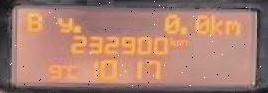-: (71, 23, 80, 32), (178, 24, 185, 33)
0: (98, 58, 115, 78), (162, 12, 178, 33), (192, 14, 208, 34), (150, 35, 166, 54), (135, 35, 150, 54)
1: (88, 59, 98, 78), (133, 58, 142, 79)
2: (68, 34, 85, 54), (102, 34, 117, 53)
3: (85, 34, 100, 53)
7: (143, 58, 160, 78)
9: (118, 34, 133, 53), (45, 63, 60, 79)
X: (23, 9, 42, 31), (221, 18, 240, 35), (208, 13, 222, 34), (55, 15, 71, 31), (65, 63, 76, 78), (173, 38, 188, 45), (167, 35, 173, 45)
